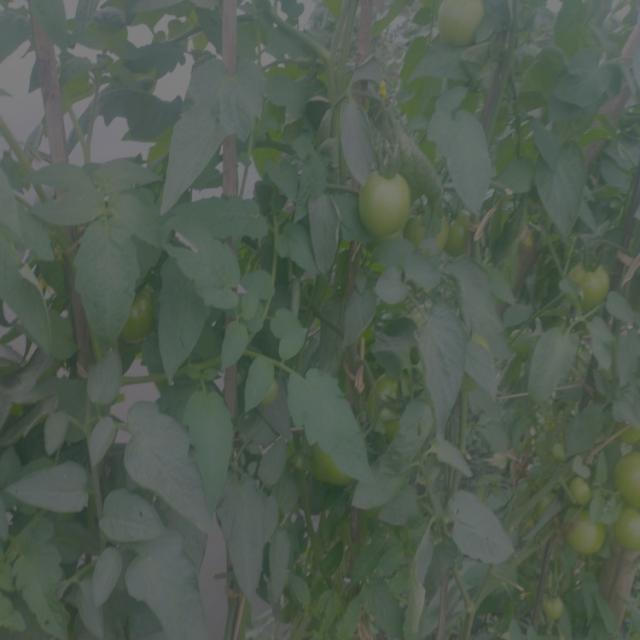tomato: (357, 161, 417, 240), (368, 366, 418, 431), (311, 439, 366, 493), (432, 1, 490, 50), (567, 255, 616, 312), (122, 289, 162, 353), (565, 513, 613, 562), (612, 443, 640, 503), (540, 585, 573, 630), (443, 214, 473, 261), (566, 472, 600, 512), (613, 505, 640, 553), (255, 373, 282, 412)
